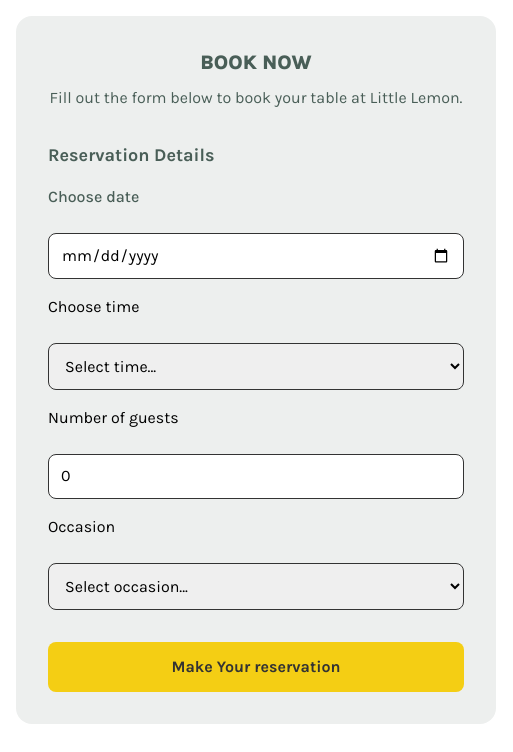
BookingForm › error message should show when ocassion select is not selected
This screenshot has width=513, height=752.
Select "Select occasion..." in the dropdown labelled "Occasion" at (256, 586), box x1=48 y1=563 x2=464 y2=610
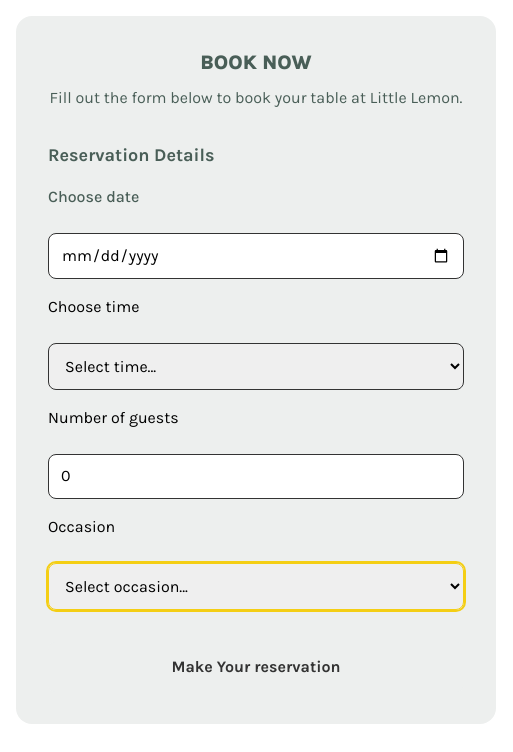
Press Tab
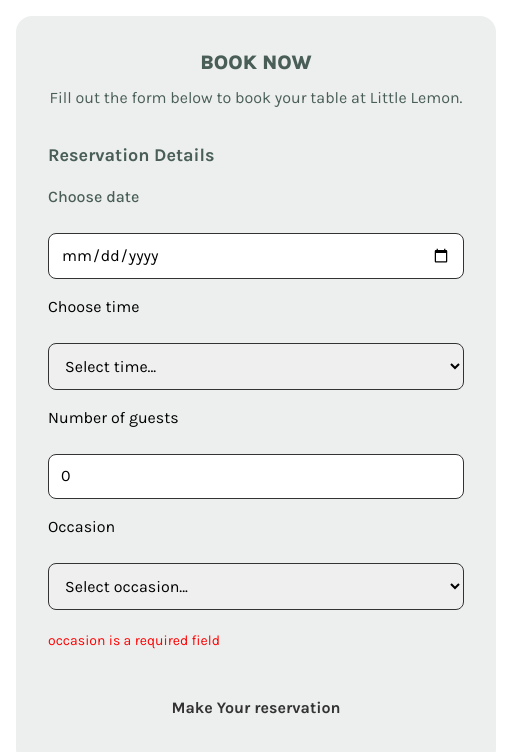
Expected: the text "occasion is a required field" is shown, x1=48 y1=632 x2=220 y2=649
